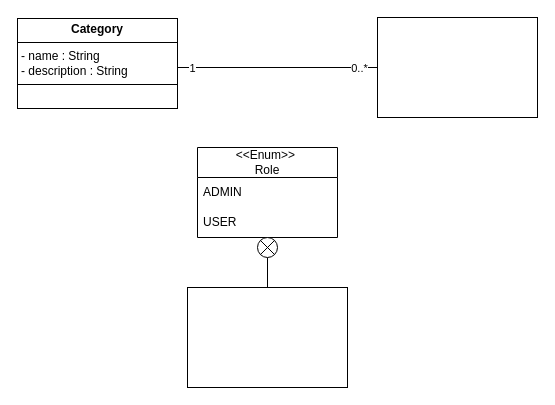
Image size: 555x405. Some labels were removed from this diagram. The shapes that lost their labels are listed below. From the top down, each one's box as (x1, y1, x2, y2) in pixels, then its label:
(376, 16, 538, 118): Product - designation : String - price : double - quantity : int
(186, 286, 348, 388): User - username : String - password : String - active : boolean
